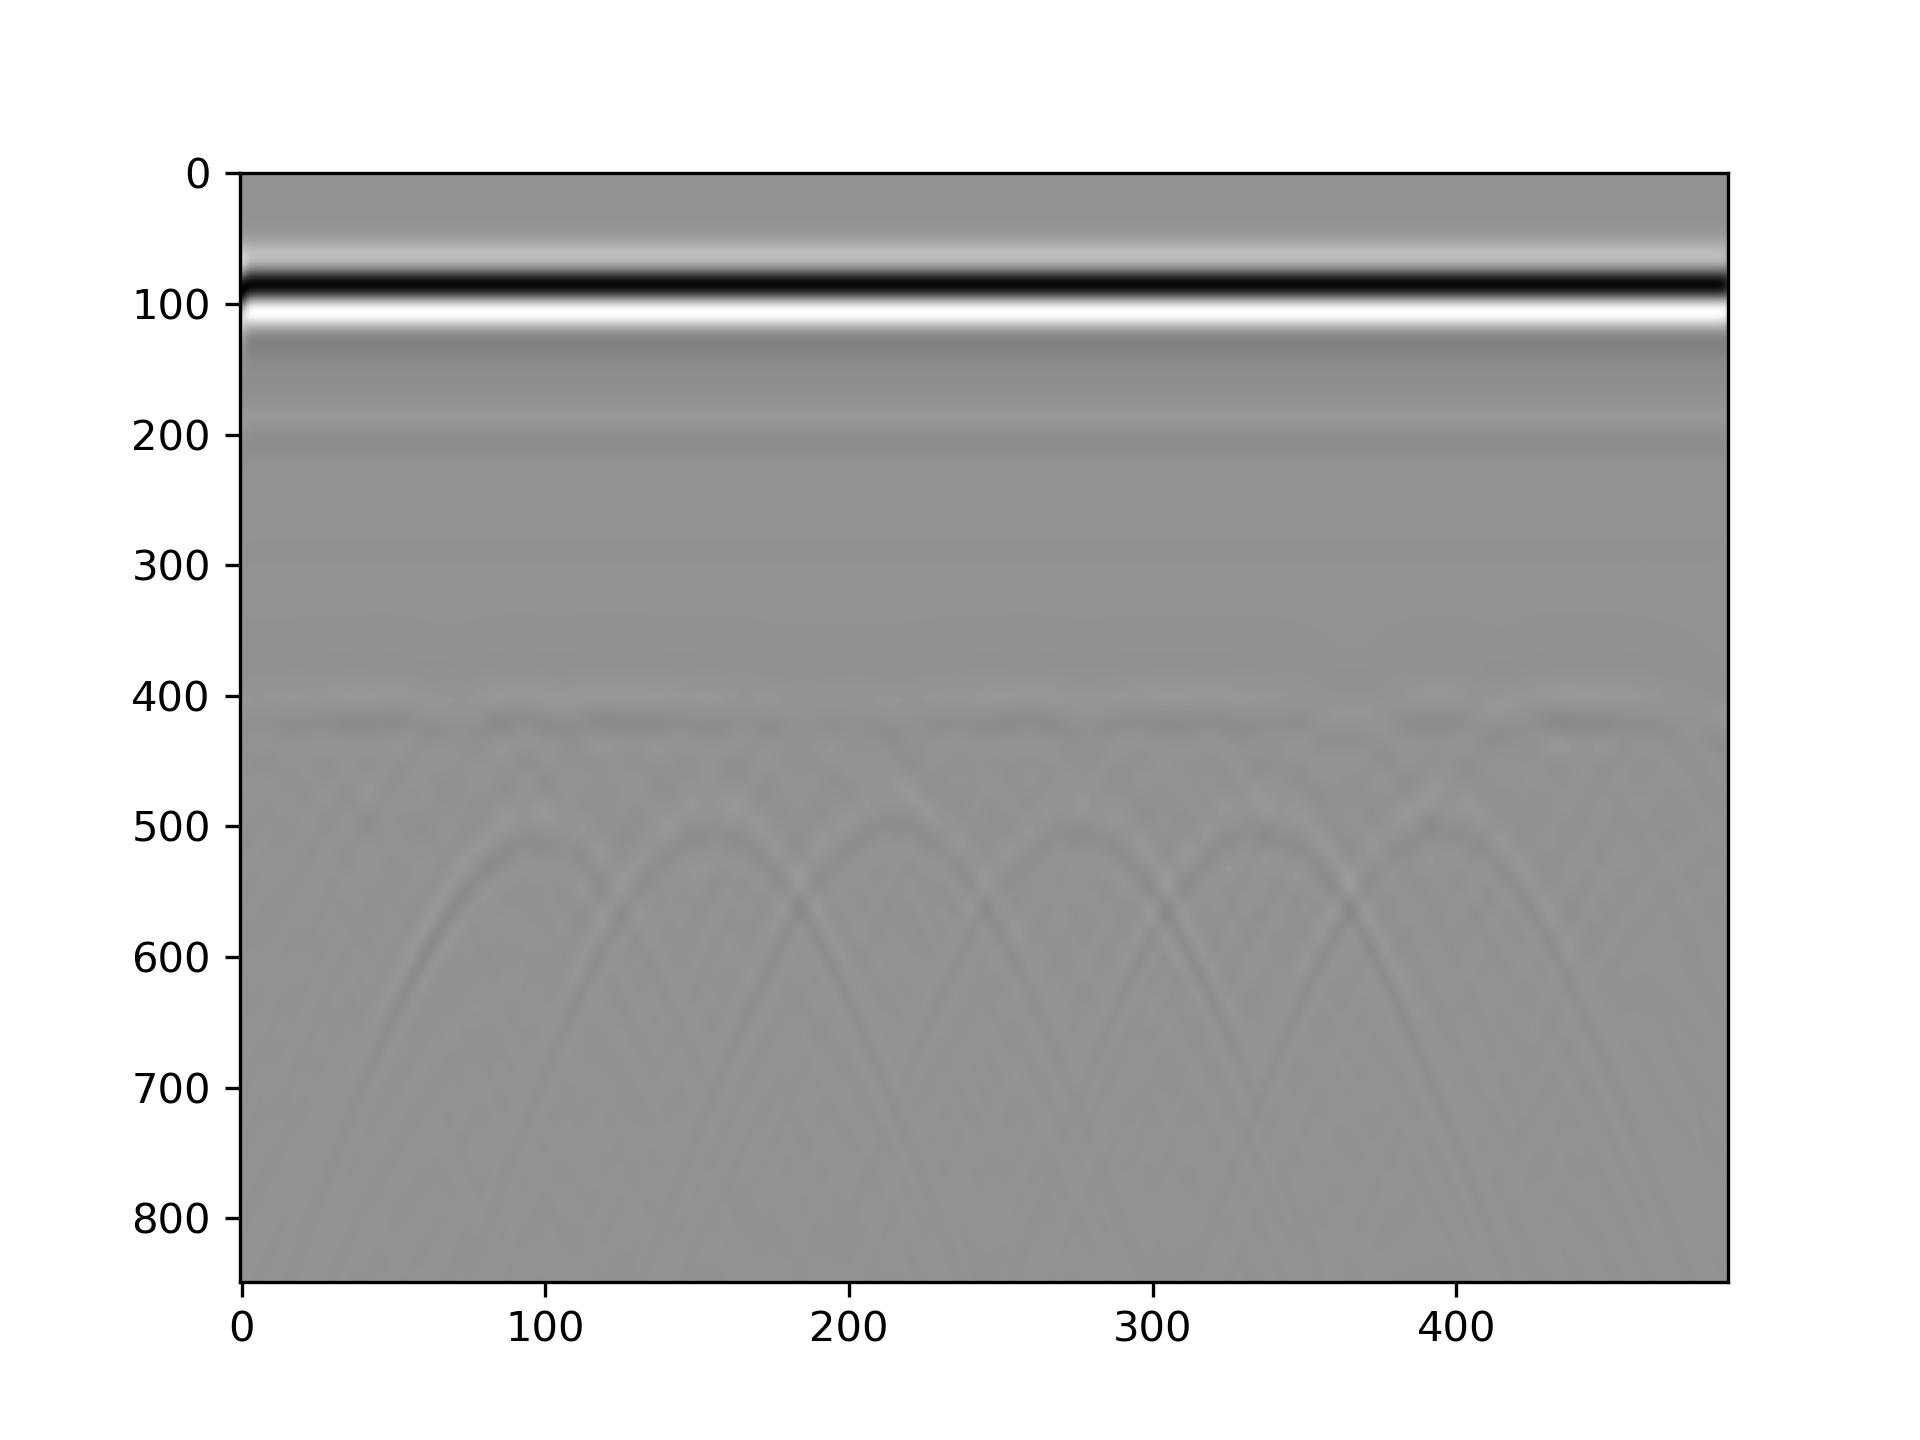钢筋: (505, 784, 555, 833), (688, 784, 738, 833), (872, 784, 922, 833), (1055, 784, 1105, 833), (1238, 784, 1288, 833), (1421, 784, 1471, 833)
